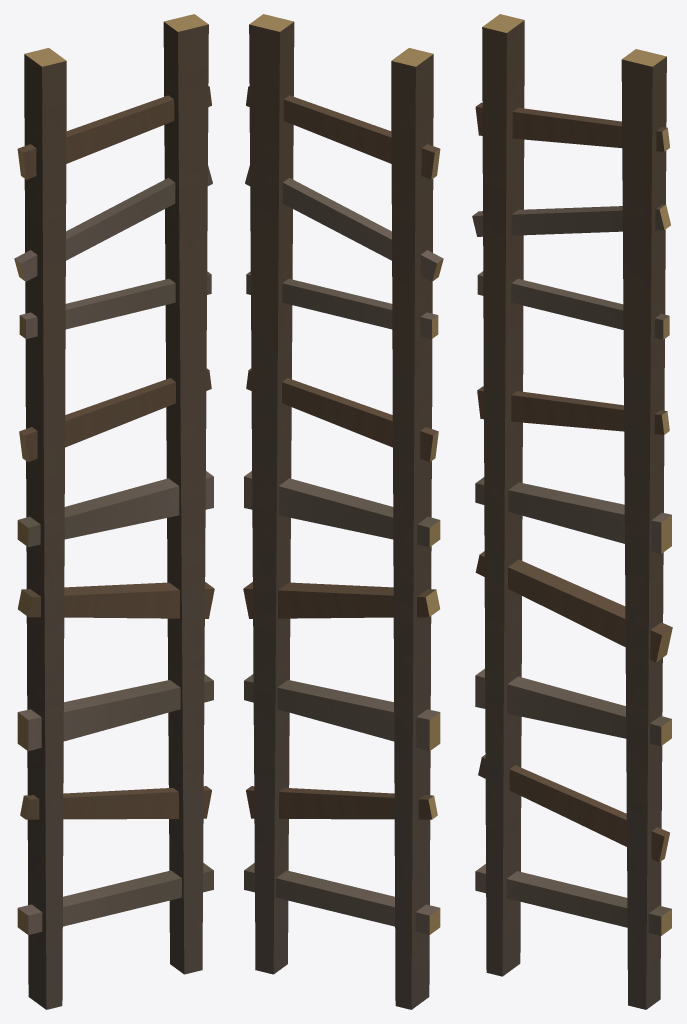
The model's file is SM_Ladder.FBX.
3 views of the same model, side by side, from view 1: azimuth 30°, elevation 25°; view 2: azimuth 150°, elevation 25°; view 3: azimuth 330°, elevation 25° (orthographic).
Parts seen in each view (by area): view 1: SM_Ladder; view 2: SM_Ladder; view 3: SM_Ladder.
Boxes of the visible parts, left/top/right/bottom form: SM_Ladder: left=14, top=14, right=214, bottom=1009; SM_Ladder: left=243, top=14, right=443, bottom=1009; SM_Ladder: left=472, top=14, right=672, bottom=1009.
Bounding box in the file's own units: 124 × 20 × 583.
